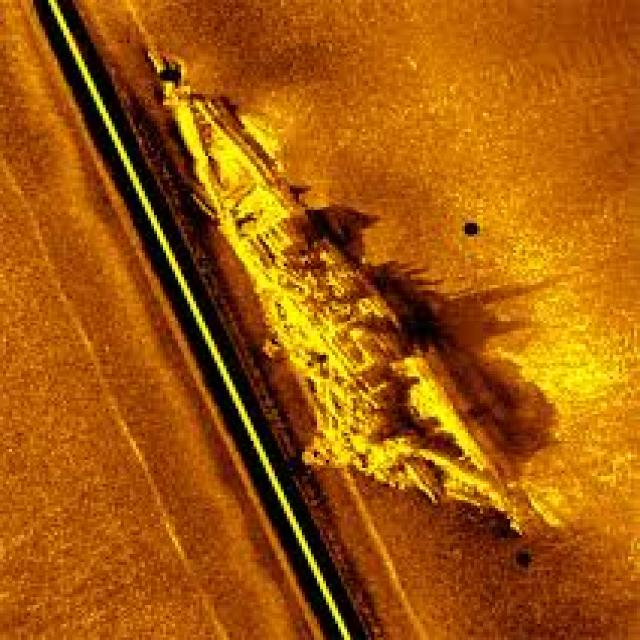ship: (148, 46, 555, 535)
